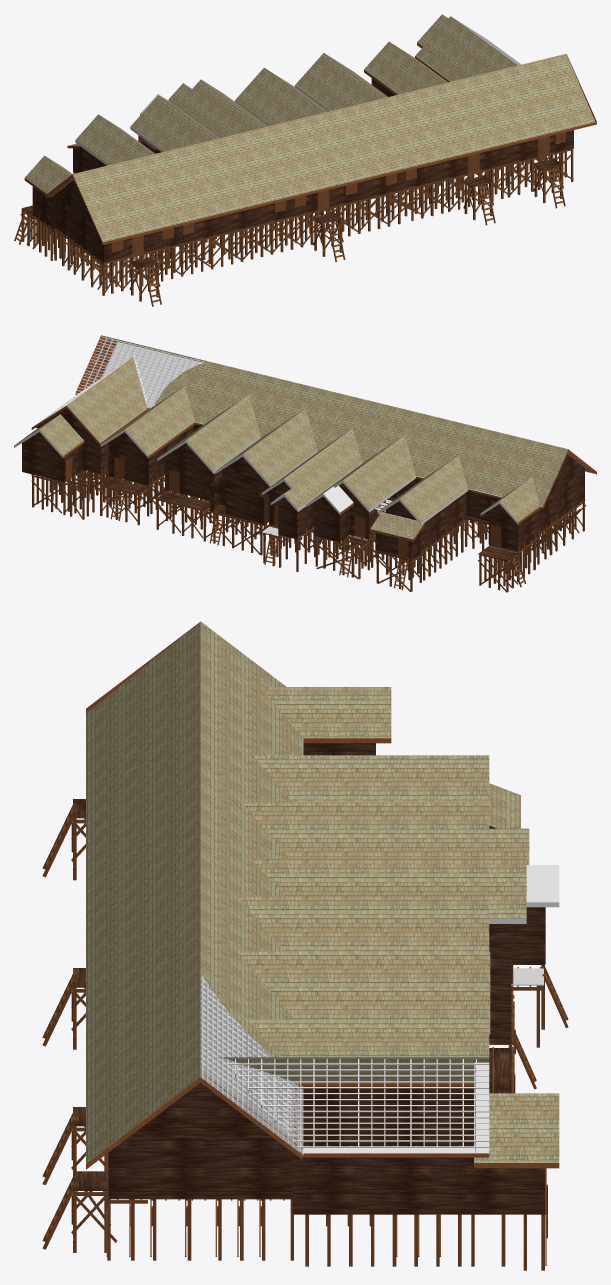
The model's file is rumah_dayak_kalimantan.glb.
3 views of the same model, one above another, from view 1: azimuth 30°, elevation 25°; view 2: azimuth 150°, elevation 25°; view 3: azimuth 270°, elevation 25° (orthographic). The views are drawn at different scales.
Visible parts, largest first — view 1: G-Object.138, _G-Object (Loose Mesh), G-Object.870, G-Object.761, C-Component#18.013; view 2: _G-Object (Loose Mesh), C-Component#12, G-Object.761, G-Object.862, G-Object.870, G-Object.002, G-Object.008, _C-Component#29 (Loose Mesh), G-Object.861, G-Object.001, G-Object.005, G-Object.004 (+3 smaller); view 3: _G-Object (Loose Mesh), G-Object.138, C-Component#12, G-Object.761, G-Object.870, G-Object.002, G-Object.862, G-Object.137, _G-Object.640 (Loose Mesh), G-Object.008, G-Object.861.
Boxes of the visible parts, box(x1,y1,x2,y2) form: G-Object.138: box(72, 53, 595, 242); _G-Object (Loose Mesh): box(24, 16, 596, 244); G-Object.870: box(54, 130, 573, 262); G-Object.761: box(32, 78, 563, 229); C-Component#18.013: box(103, 148, 571, 264); _G-Object (Loose Mesh): box(22, 338, 596, 524); C-Component#12: box(155, 361, 568, 506); G-Object.761: box(22, 424, 538, 560); G-Object.862: box(210, 477, 269, 524); G-Object.870: box(414, 469, 584, 532); G-Object.002: box(14, 414, 84, 458); G-Object.008: box(370, 501, 424, 541); _C-Component#29 (Loose Mesh): box(71, 476, 411, 559); G-Object.861: box(157, 492, 210, 509); G-Object.001: box(36, 408, 96, 442); G-Object.005: box(223, 457, 262, 479); G-Object.004: box(166, 443, 205, 465); _G-Object (Loose Mesh): box(86, 625, 559, 1157); G-Object.138: box(86, 622, 200, 1163); C-Component#12: box(200, 622, 302, 1057); G-Object.761: box(292, 743, 545, 1214); G-Object.870: box(108, 1137, 292, 1199); G-Object.002: box(474, 1093, 559, 1168); G-Object.862: box(489, 935, 511, 1043); G-Object.137: box(86, 1077, 302, 1169); _G-Object.640 (Loose Mesh): box(153, 1199, 265, 1260); G-Object.008: box(489, 783, 520, 828); G-Object.861: box(489, 1048, 511, 1093).
Bounding box in the file's own units: 49.93 × 10.72 × 24.11.
6 materials, 5 textured.
